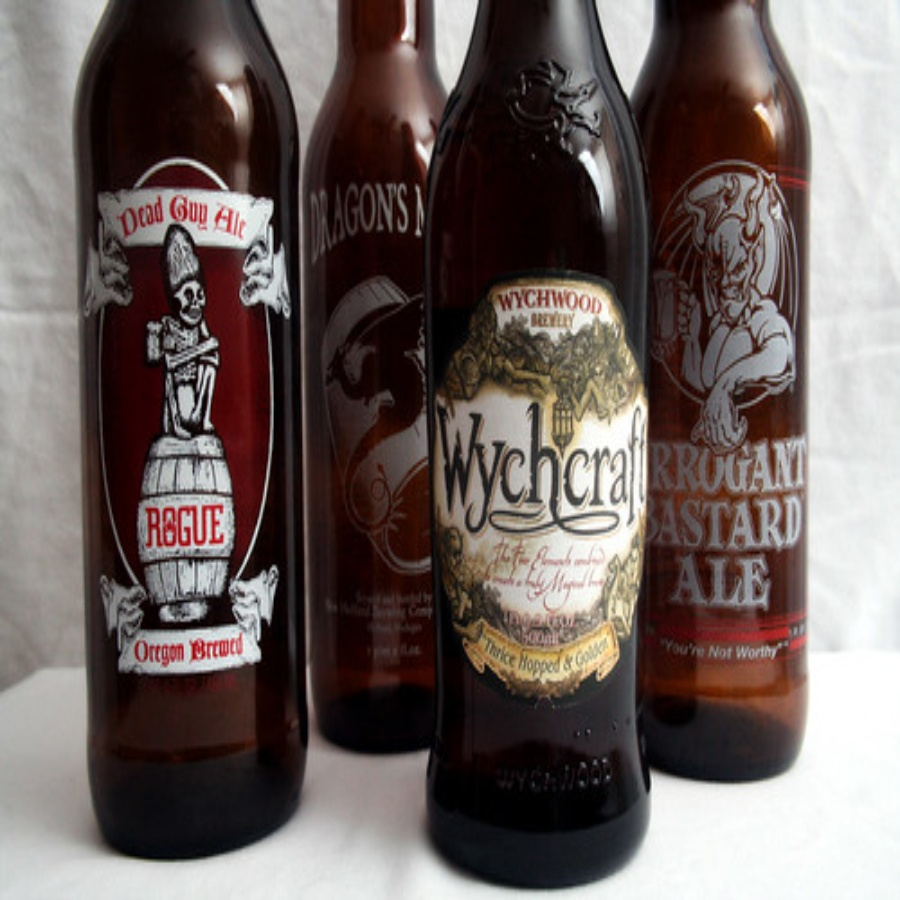beer: (426, 21, 654, 885), (74, 22, 298, 846)
